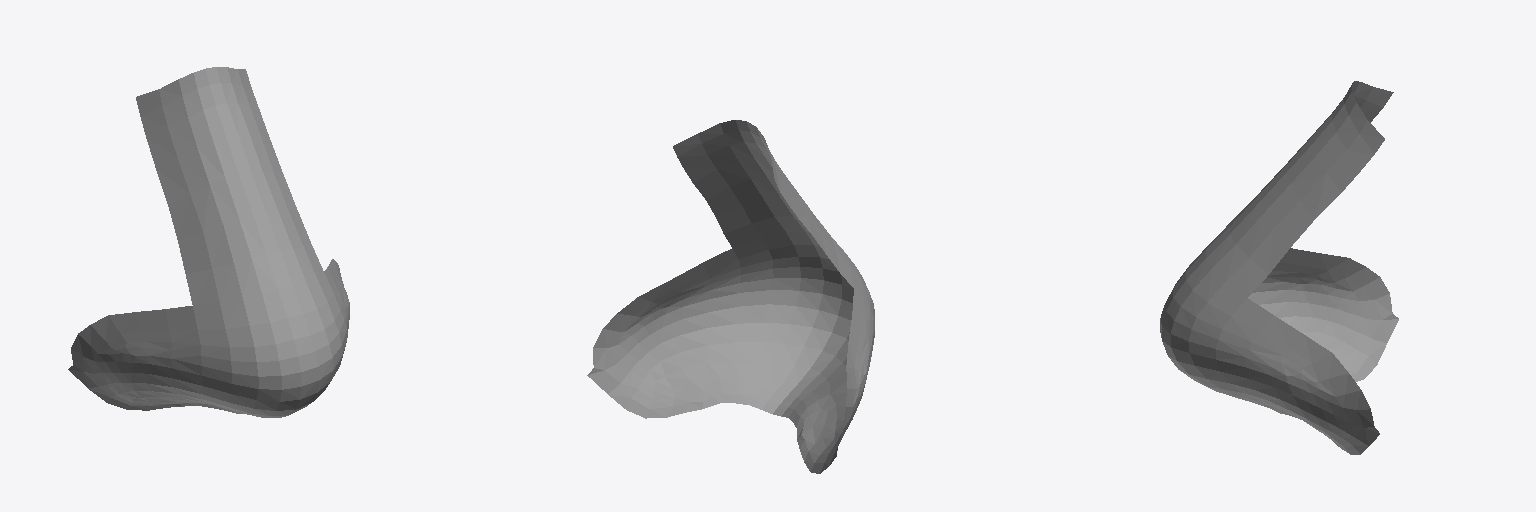
The model's file is euro-nose-tilt-up.obj.
3 renders of one model, left to right at view 1: azimuth 30°, elevation 25°; view 2: azimuth 150°, elevation 25°; view 3: azimuth 270°, elevation 25°, orthographic.
Parts seen in each view (by area): view 1: euro-nose-tilt-up.001; view 2: euro-nose-tilt-up.001; view 3: euro-nose-tilt-up.001.
Part boxes in pixels (left/top/right/bottom): euro-nose-tilt-up.001: left=68, top=67, right=349, bottom=417; euro-nose-tilt-up.001: left=587, top=120, right=874, bottom=473; euro-nose-tilt-up.001: left=1160, top=81, right=1398, bottom=454.
Size of the model in its own units: 0.2867 by 0.3462 by 0.2279.